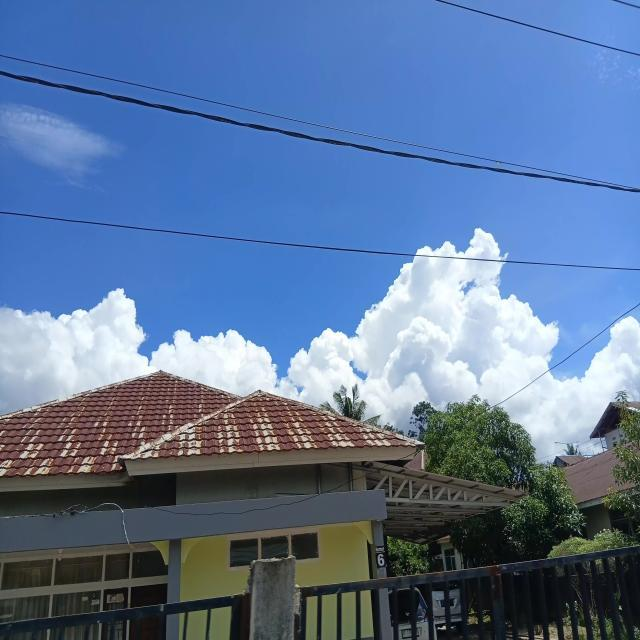cumulus: (304, 337, 533, 379), (6, 301, 125, 381), (389, 287, 524, 330), (543, 330, 624, 397), (173, 330, 271, 379)
